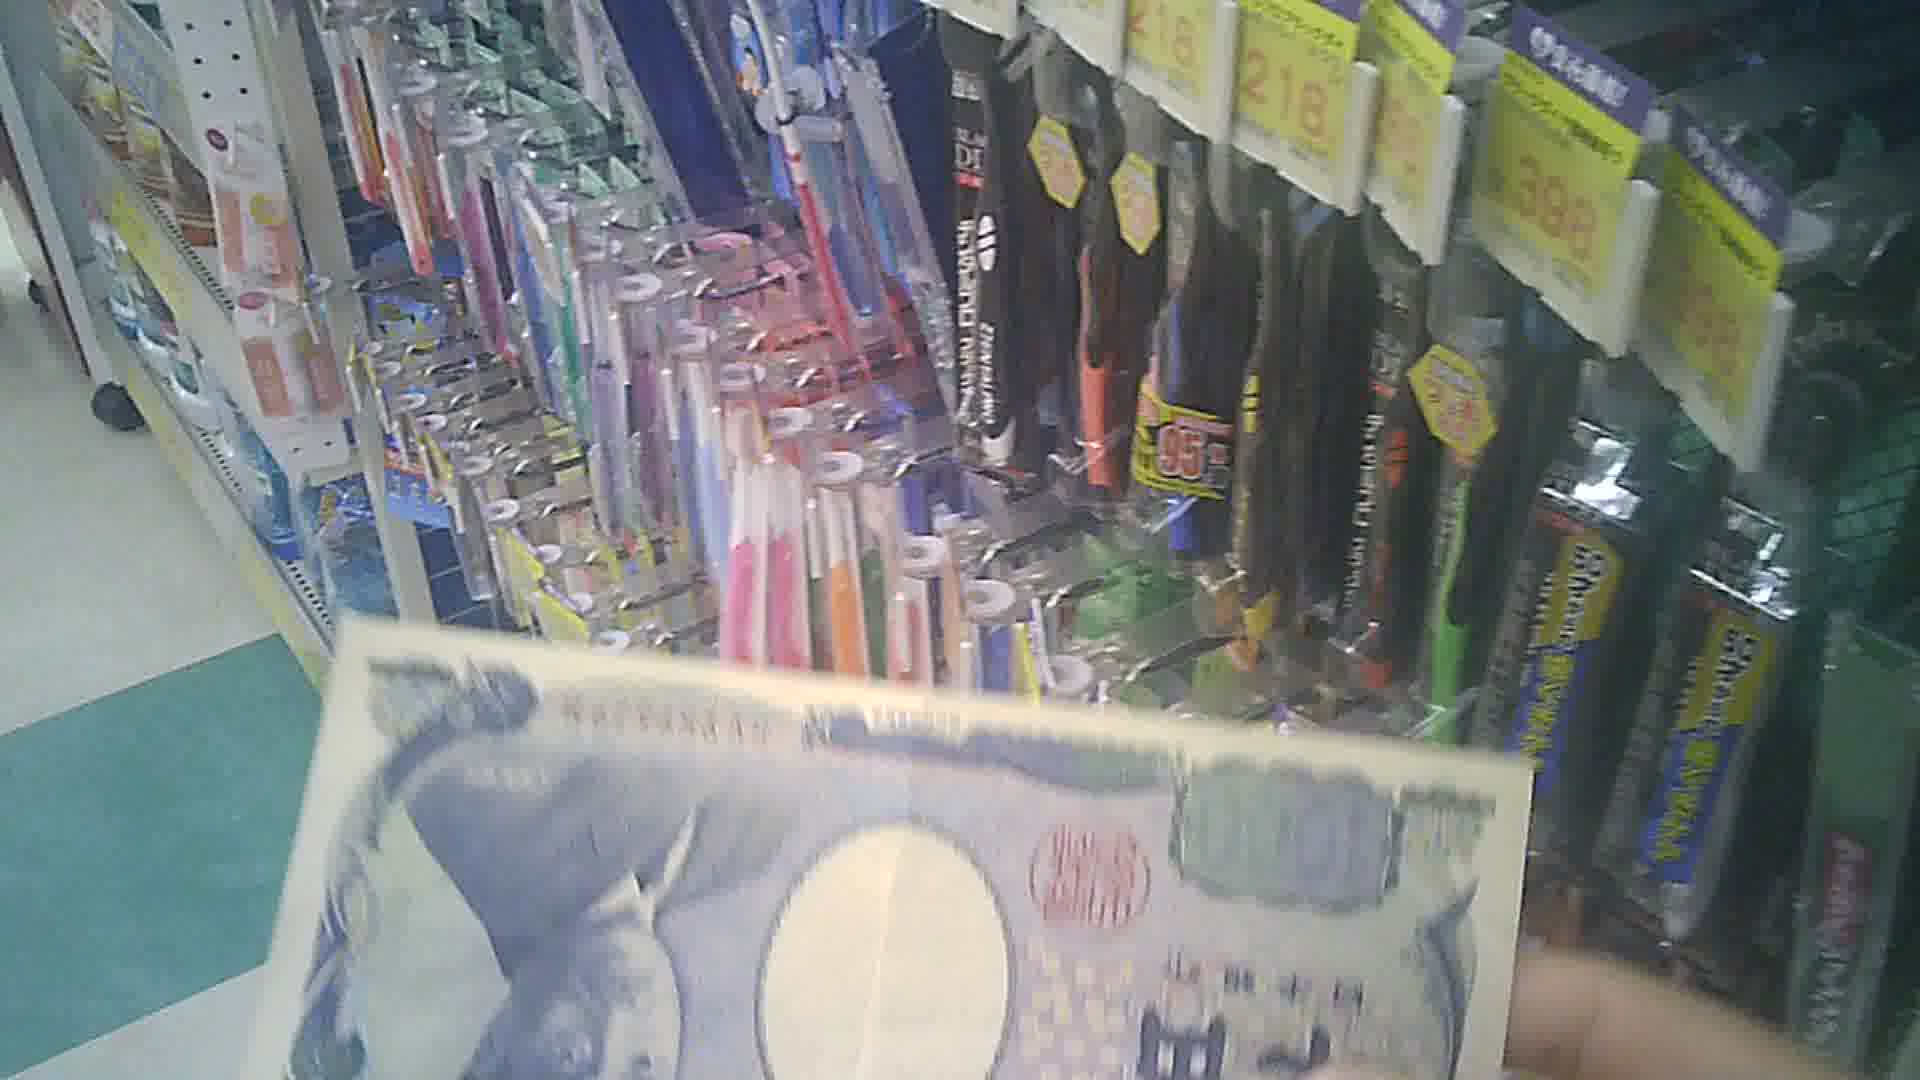1,000 Yen: (243, 597, 1560, 1076)
